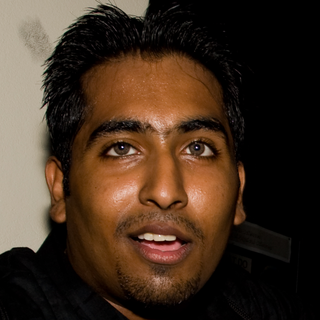eye: (176, 138, 223, 166), (95, 140, 146, 161)
